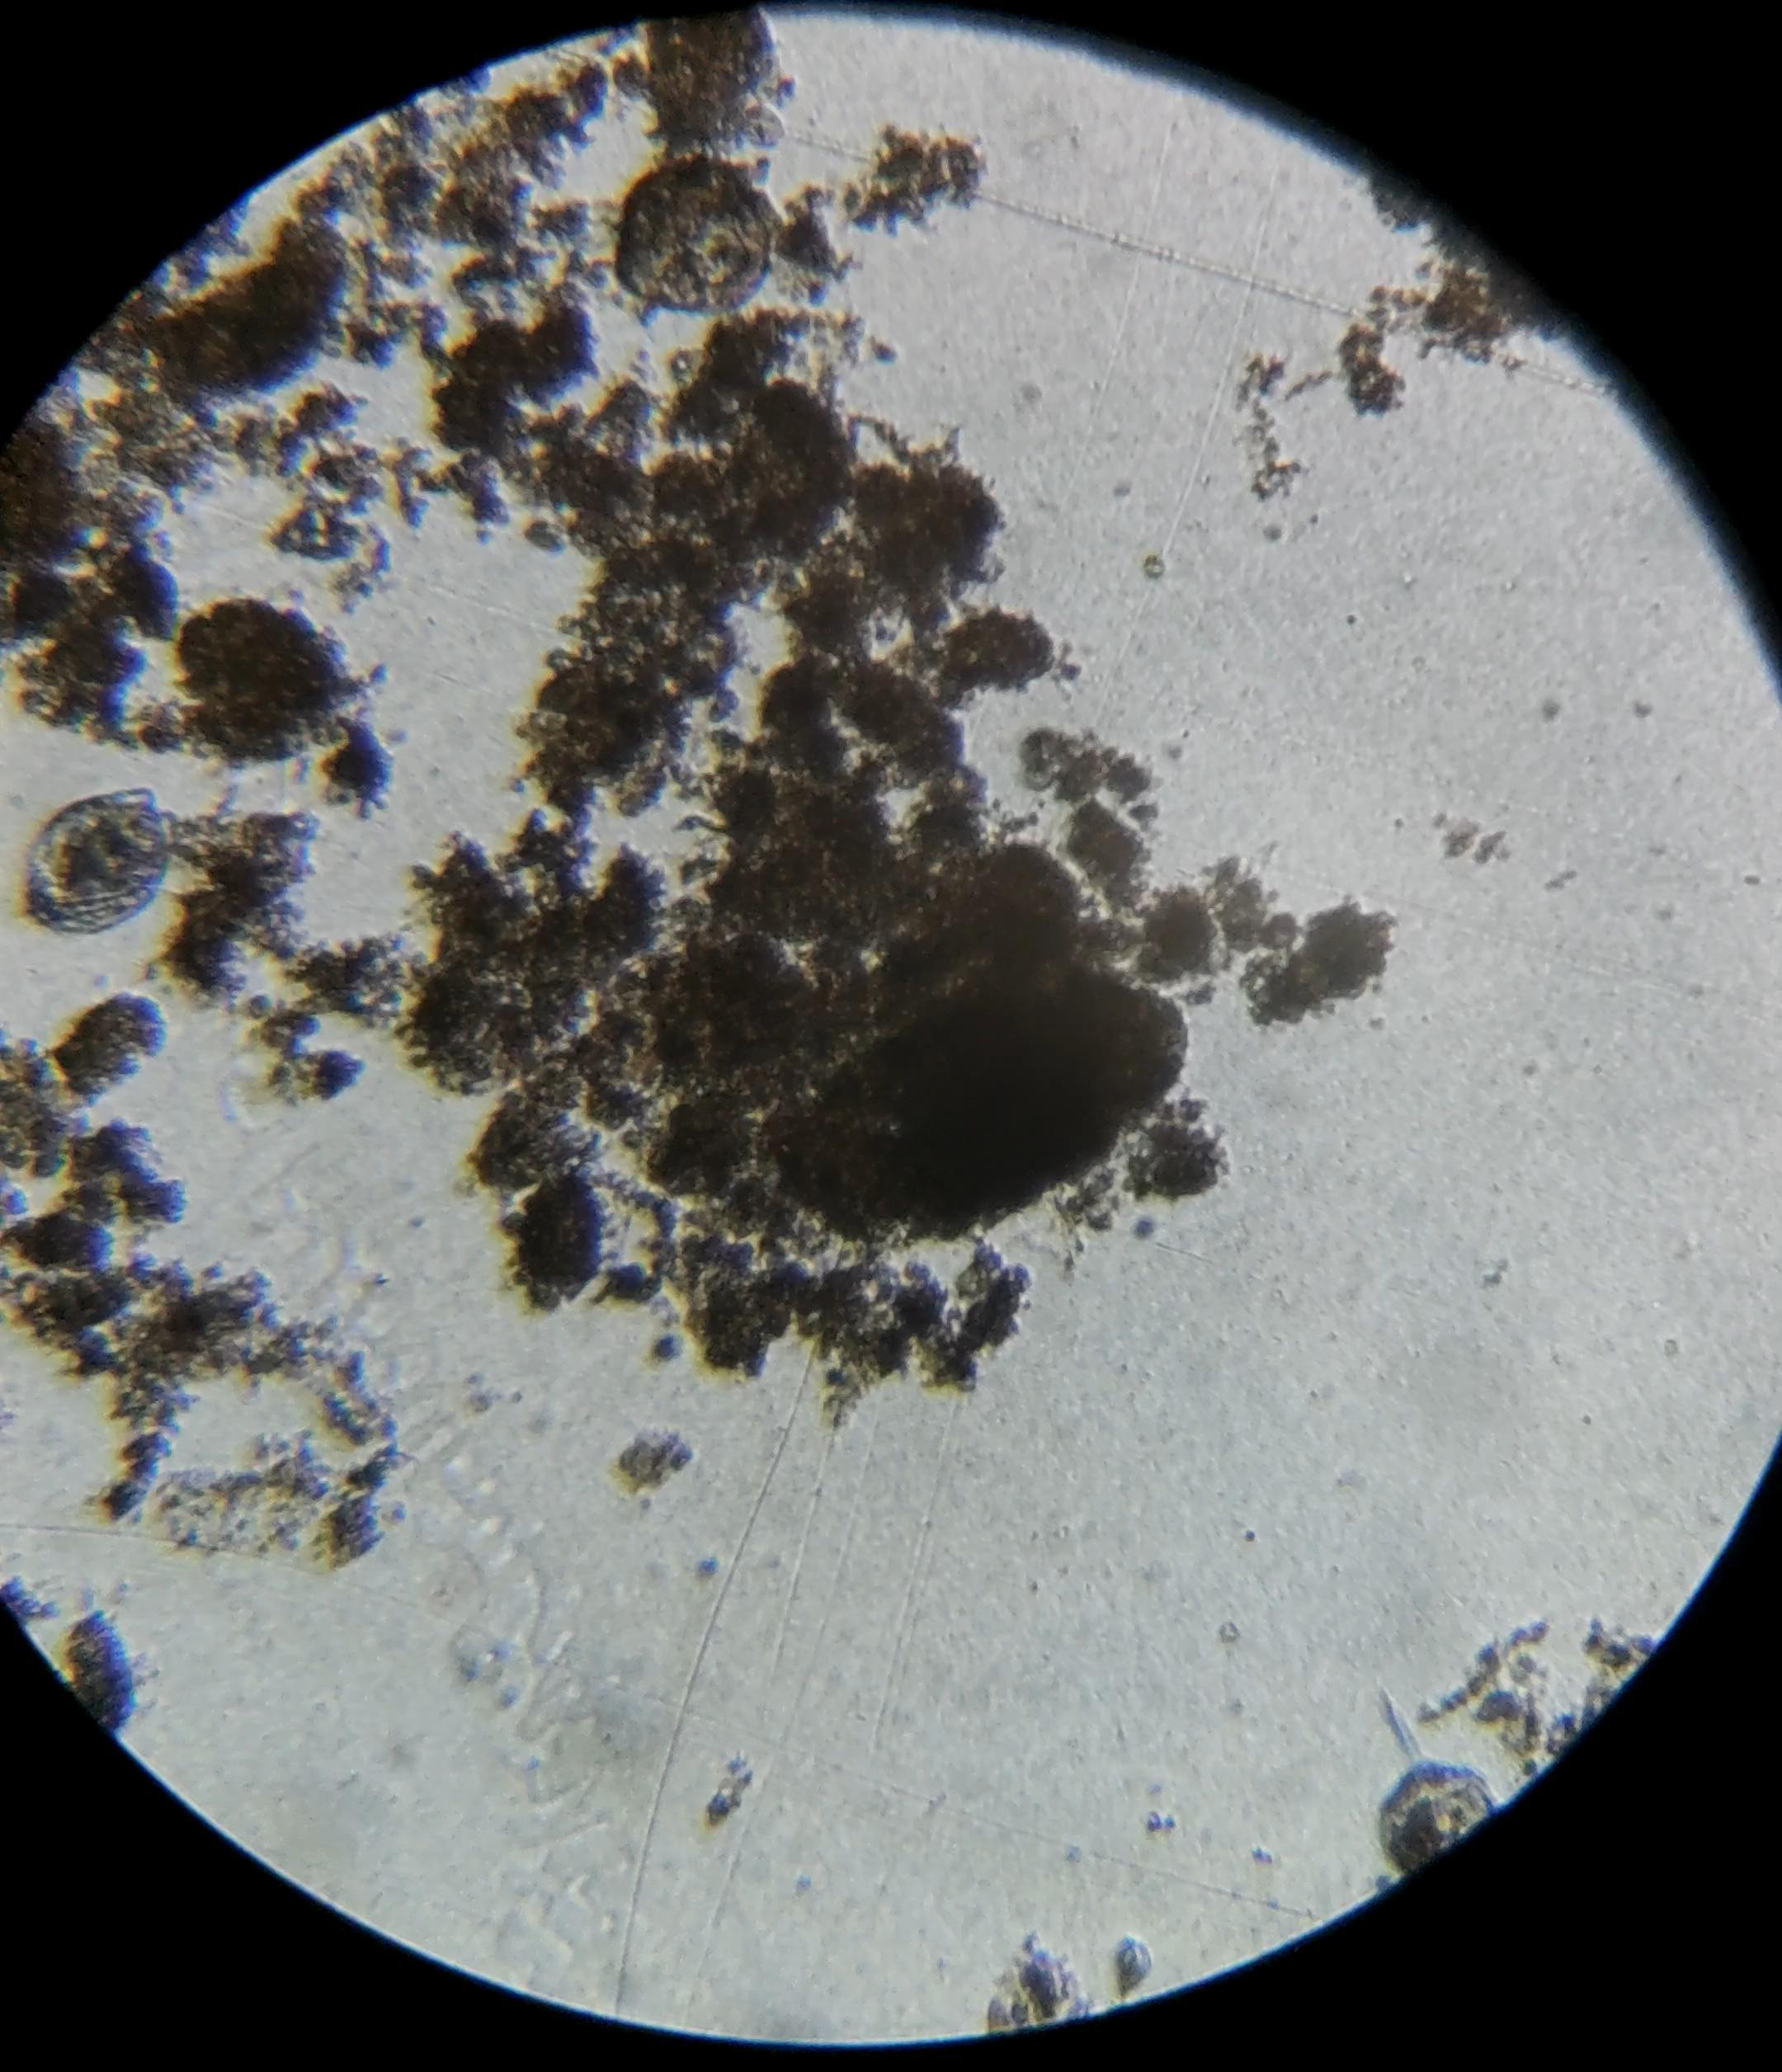Arcella: (617, 162, 770, 312)
Mo: (1378, 1686, 1495, 1875), (28, 789, 178, 936)
